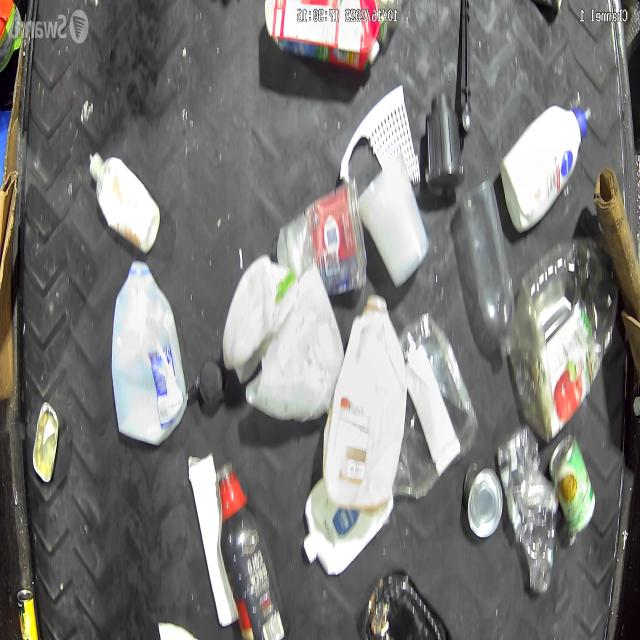can: (546, 434, 596, 558), (463, 458, 502, 551)
milk_jug: (222, 252, 342, 422), (322, 292, 407, 529), (108, 260, 182, 456)
plastic_bottle: (510, 235, 617, 434), (460, 181, 518, 368)
